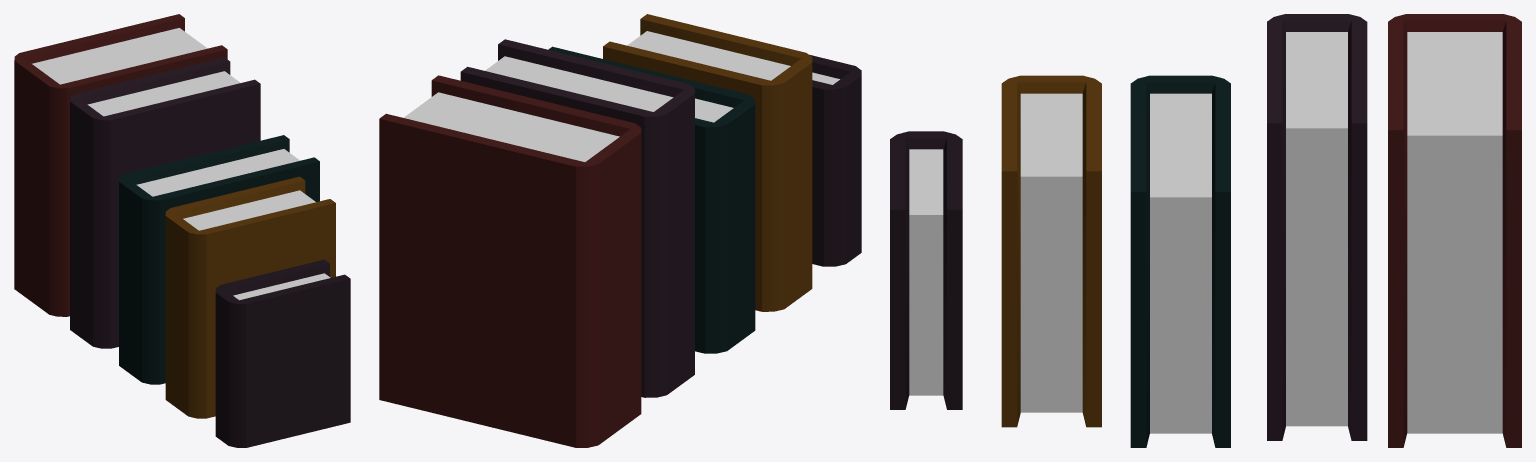
File: Livres.fbx
3 views of the same model, side by side, from view 1: azimuth 30°, elevation 25°; view 2: azimuth 150°, elevation 25°; view 3: azimuth 270°, elevation 25° (orthographic). The views are drawn at different scales.
Parts seen in each view (by area): view 1: Box096, Box099, Box098, Box095, Box097, Pages1, Pages3, Pages2, Pages4, Pages5; view 2: Box095, Box096, Box098, Box097, Box099, Pages1, Pages2, Pages4, Pages3; view 3: Pages1, Pages2, Pages3, Pages4, Box095, Box096, Box097, Box098, Box099, Pages5.
Boxes of the visible parts, x1=… form: Box096: x1=70, y1=57, x2=260, y2=348; Box099: x1=215, y1=259, x2=350, y2=447; Box098: x1=165, y1=176, x2=335, y2=418; Box095: x1=14, y1=14, x2=227, y2=316; Box097: x1=119, y1=135, x2=319, y2=384; Pages1: x1=32, y1=28, x2=207, y2=84; Pages3: x1=136, y1=149, x2=299, y2=196; Pages2: x1=87, y1=71, x2=240, y2=116; Pages4: x1=183, y1=190, x2=315, y2=230; Pages5: x1=233, y1=273, x2=330, y2=300; Box095: x1=379, y1=75, x2=641, y2=447; Box096: x1=460, y1=39, x2=694, y2=397; Box098: x1=603, y1=14, x2=812, y2=311; Box097: x1=548, y1=46, x2=755, y2=353; Box099: x1=809, y1=54, x2=861, y2=266; Pages1: x1=403, y1=92, x2=619, y2=161; Pages2: x1=485, y1=56, x2=673, y2=111; Pages4: x1=627, y1=31, x2=790, y2=80; Pages3: x1=695, y1=98, x2=733, y2=122; Pages1: x1=1407, y1=32, x2=1502, y2=433; Pages2: x1=1286, y1=32, x2=1347, y2=426; Pages3: x1=1150, y1=93, x2=1211, y2=433; Pages4: x1=1020, y1=93, x2=1082, y2=412; Box095: x1=1388, y1=14, x2=1521, y2=447; Box096: x1=1267, y1=14, x2=1367, y2=440; Box097: x1=1130, y1=75, x2=1230, y2=447; Box098: x1=1001, y1=75, x2=1101, y2=427; Box099: x1=890, y1=131, x2=962, y2=409; Pages5: x1=909, y1=149, x2=943, y2=395.
Bounding box in the file's own units: 2.76 × 3.52 × 6.34.
